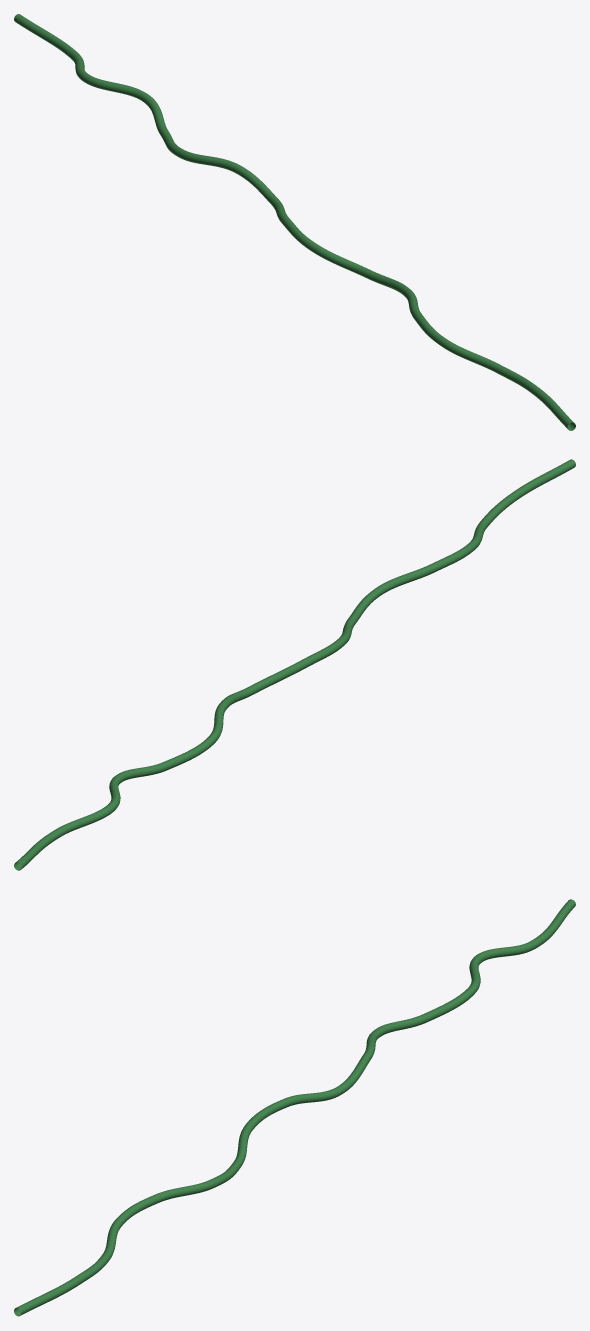
Rendered from organic_path.glb.
The picture shows the model from 3 angles, top to bottom: view 1: azimuth 30°, elevation 25°; view 2: azimuth 150°, elevation 25°; view 3: azimuth 330°, elevation 25°; orthographic projection.
Parts seen in each view (by area): view 1: MainOrganicPath; view 2: MainOrganicPath; view 3: MainOrganicPath.
Part boxes in pixels (x1=…): MainOrganicPath: x1=14, y1=14, x2=575, y2=430; MainOrganicPath: x1=14, y1=459, x2=575, y2=870; MainOrganicPath: x1=14, y1=899, x2=575, y2=1316.
Bounding box in the file's own units: 2.63 × 1.27 × 68.07.
